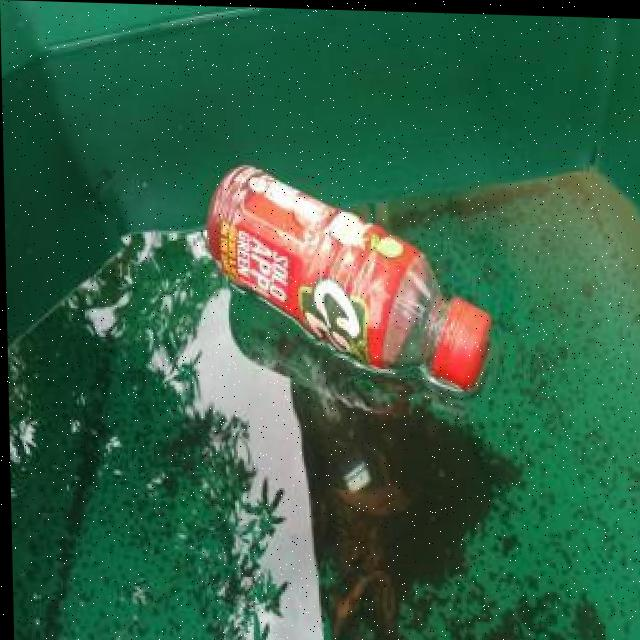bottle: (200, 156, 496, 394)
